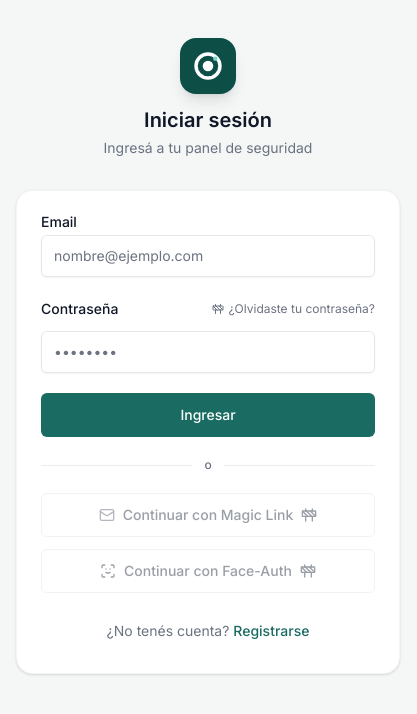
Scenario: LoginPage › reports both field errors on an empty submit
The width and height of the screenshot is (417, 714).
What coordinates should you click on to do the following:
click the button "Ingresar"
I would click on:
 (208, 415)
Its box is [41,393,375,437].
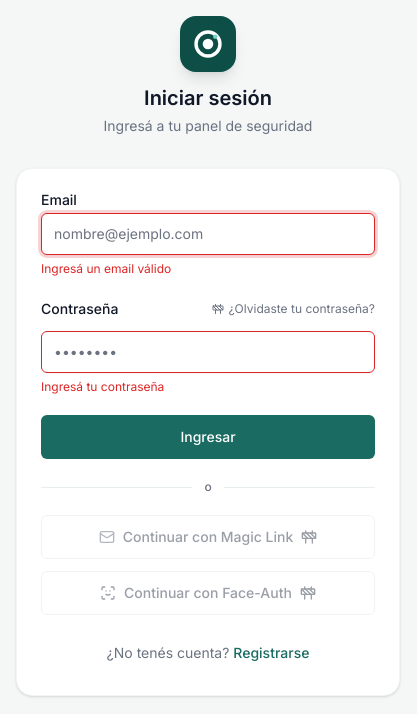
Expected: the text "Ingresá un email válido" is shown, [41,261,171,276]
Expected: the text "Ingresá tu contraseña" is shown, [41,379,164,394]
